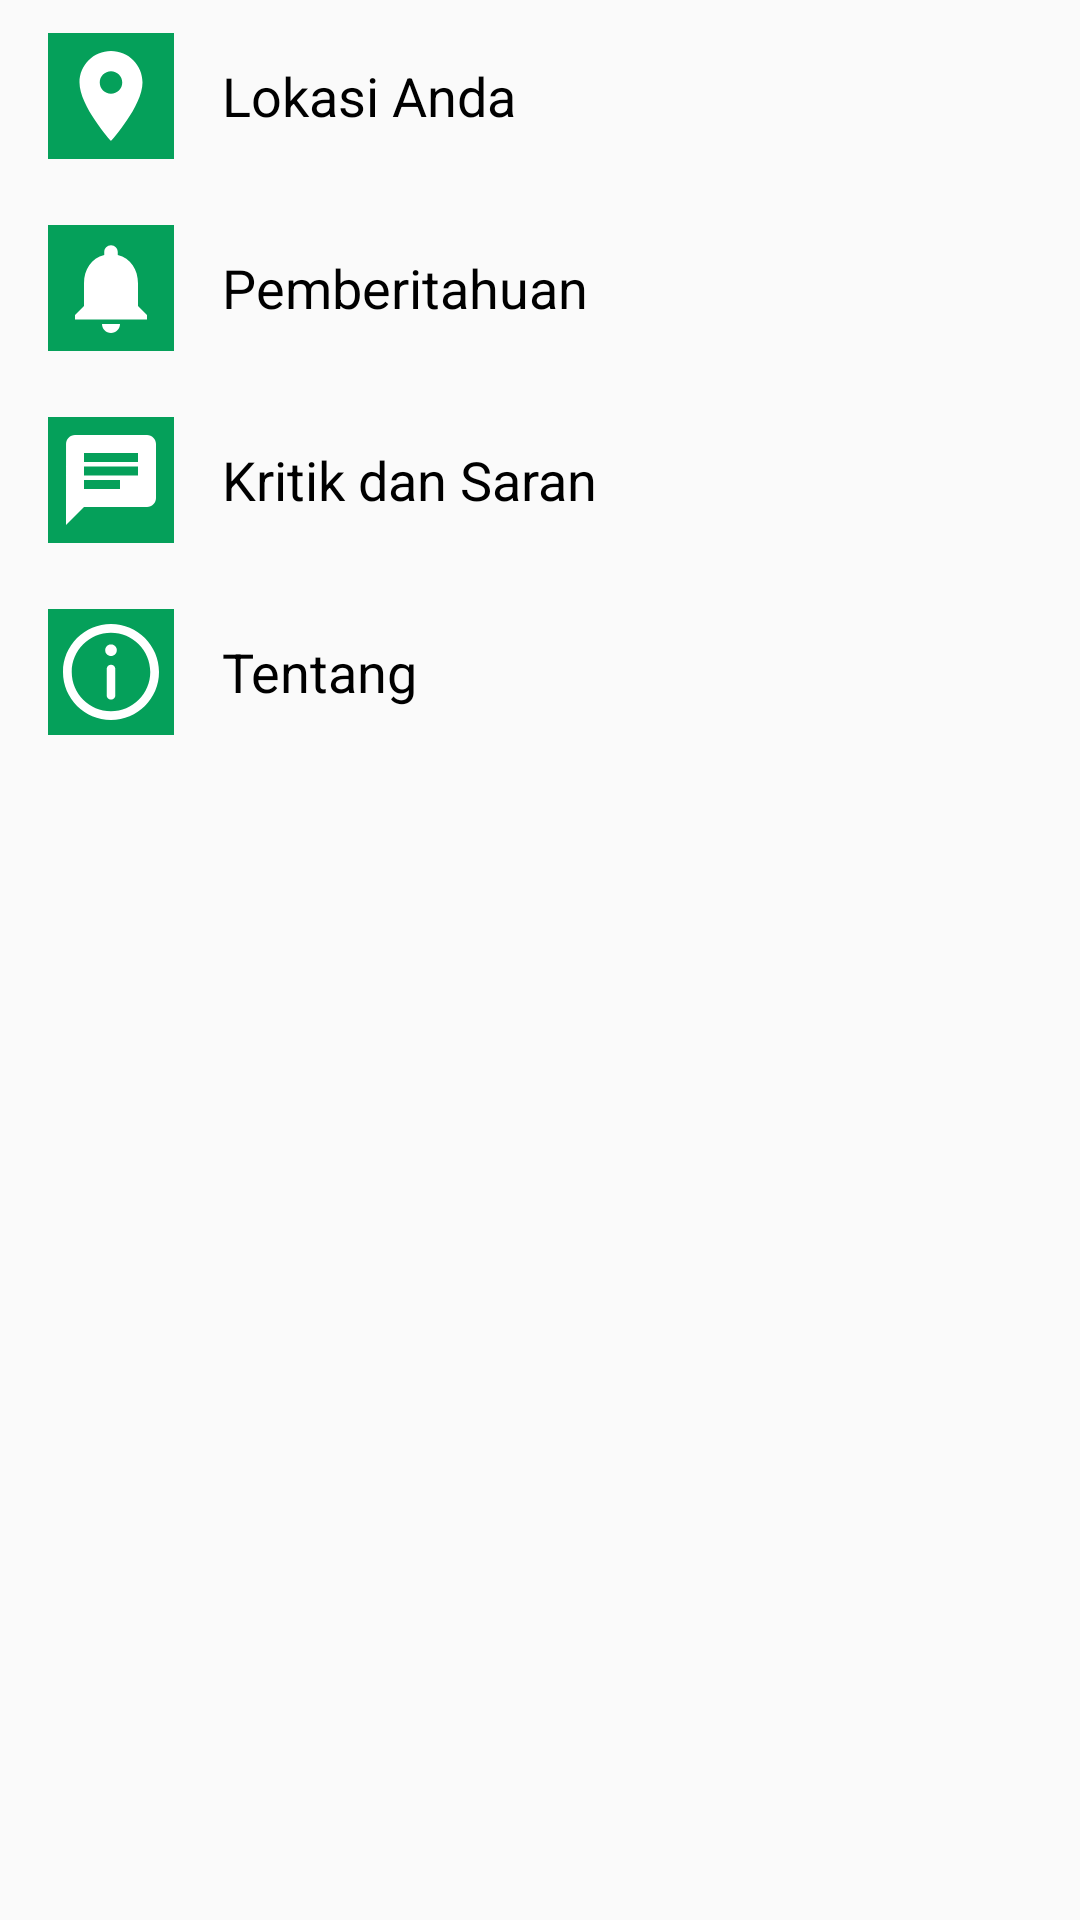

Point at icon controls on the screen. Image size 1080px×1920px, points as [x,y].
chat: [111,480]
information: [111,672]
location: [111,96]
notifications: [111,288]
